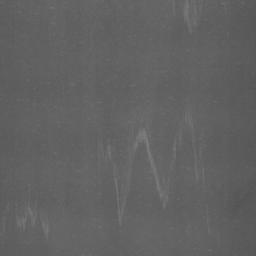Silk spot: (135, 143, 146, 160)
